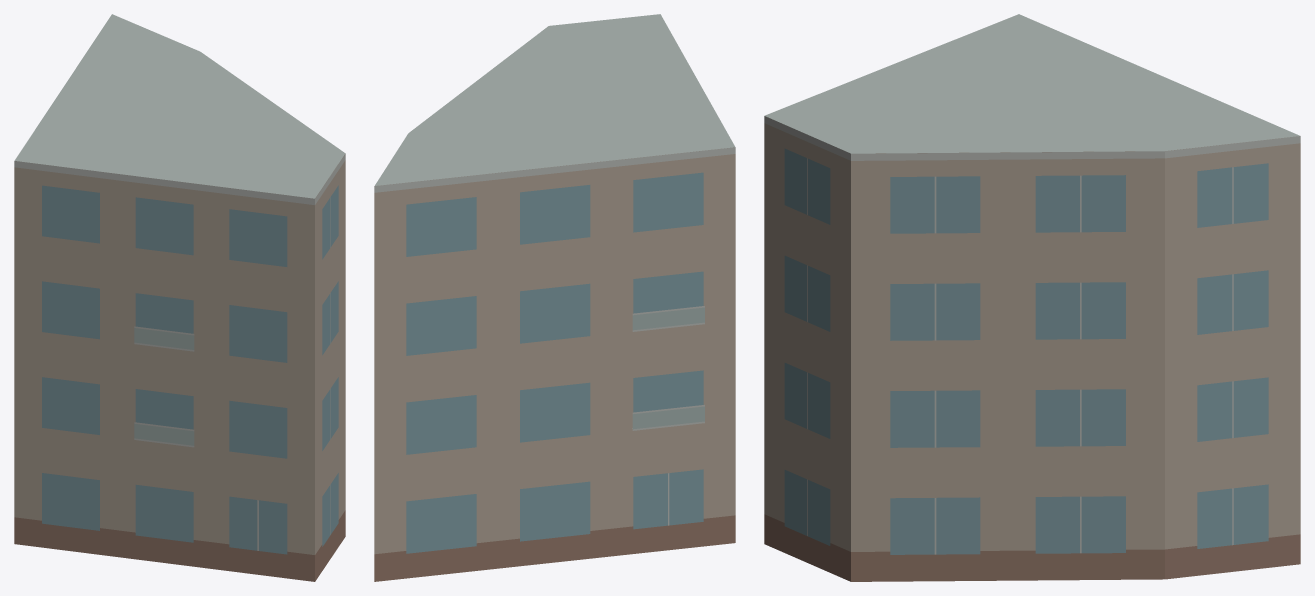
File: survey-upis-32691220.glb
3 renders of one model, left to right at view 1: azimuth 30°, elevation 25°; view 2: azimuth 150°, elevation 25°; view 3: azimuth 270°, elevation 25°, orthographic. The views are drawn at different scales.
Parts seen in each view (by area): view 1: survey-upis-32691220.tmp; view 2: survey-upis-32691220.tmp; view 3: survey-upis-32691220.tmp.
Part boxes in pixels (x1,y1,x2,y2): survey-upis-32691220.tmp: (14,14,345,581); survey-upis-32691220.tmp: (374,14,735,581); survey-upis-32691220.tmp: (764,14,1300,581).
Size of the model in its own units: 10.05 by 14.36 by 16.31.
